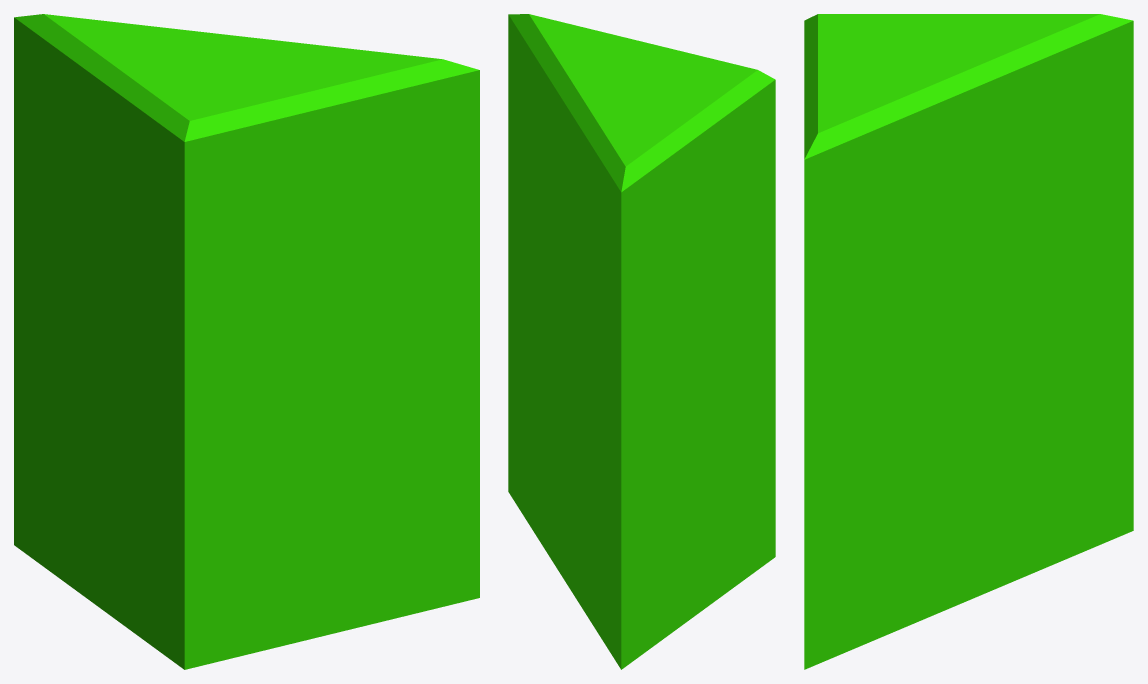
Rendered from diagonal_1x2.fbx.
The picture shows the model from 3 angles, left to right: view 1: azimuth 30°, elevation 25°; view 2: azimuth 150°, elevation 25°; view 3: azimuth 270°, elevation 25°; orthographic projection. The views are drawn at different scales.
Parts seen in each view (by area): view 1: diagonal_1x2; view 2: diagonal_1x2; view 3: diagonal_1x2.
Boxes of the visible parts, bbox=[...] form: diagonal_1x2: bbox=[14, 14, 479, 669]; diagonal_1x2: bbox=[508, 14, 775, 669]; diagonal_1x2: bbox=[804, 14, 1133, 669].
Bounding box in the file's own units: 120 × 210 × 120.
